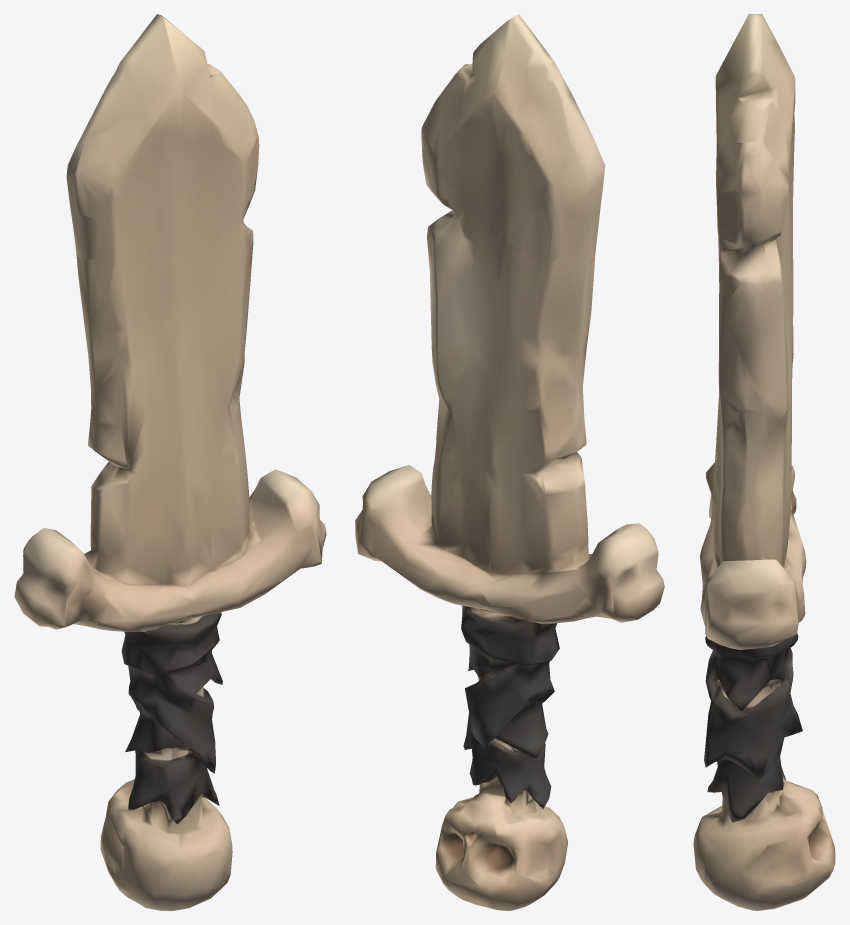
Rendered from BoneMinion_Sword-wn5cKXFK.glb.
The picture shows the model from 3 angles, left to right: view 1: azimuth 30°, elevation 25°; view 2: azimuth 150°, elevation 25°; view 3: azimuth 270°, elevation 25°; orthographic projection.
Parts seen in each view (by area): view 1: tripo_node_2556a9ac-4725-41c7-90bb-1f4b8552fdaa; view 2: tripo_node_2556a9ac-4725-41c7-90bb-1f4b8552fdaa; view 3: tripo_node_2556a9ac-4725-41c7-90bb-1f4b8552fdaa.
Boxes of the visible parts, box(x1,y1,x2,y2) form: tripo_node_2556a9ac-4725-41c7-90bb-1f4b8552fdaa: box(14, 14, 326, 910); tripo_node_2556a9ac-4725-41c7-90bb-1f4b8552fdaa: box(355, 14, 664, 910); tripo_node_2556a9ac-4725-41c7-90bb-1f4b8552fdaa: box(693, 14, 835, 910).
Bounding box in the file's own units: 0.5197 × 1.5 × 0.2187.
Materials: 1 (1 with a texture image).
